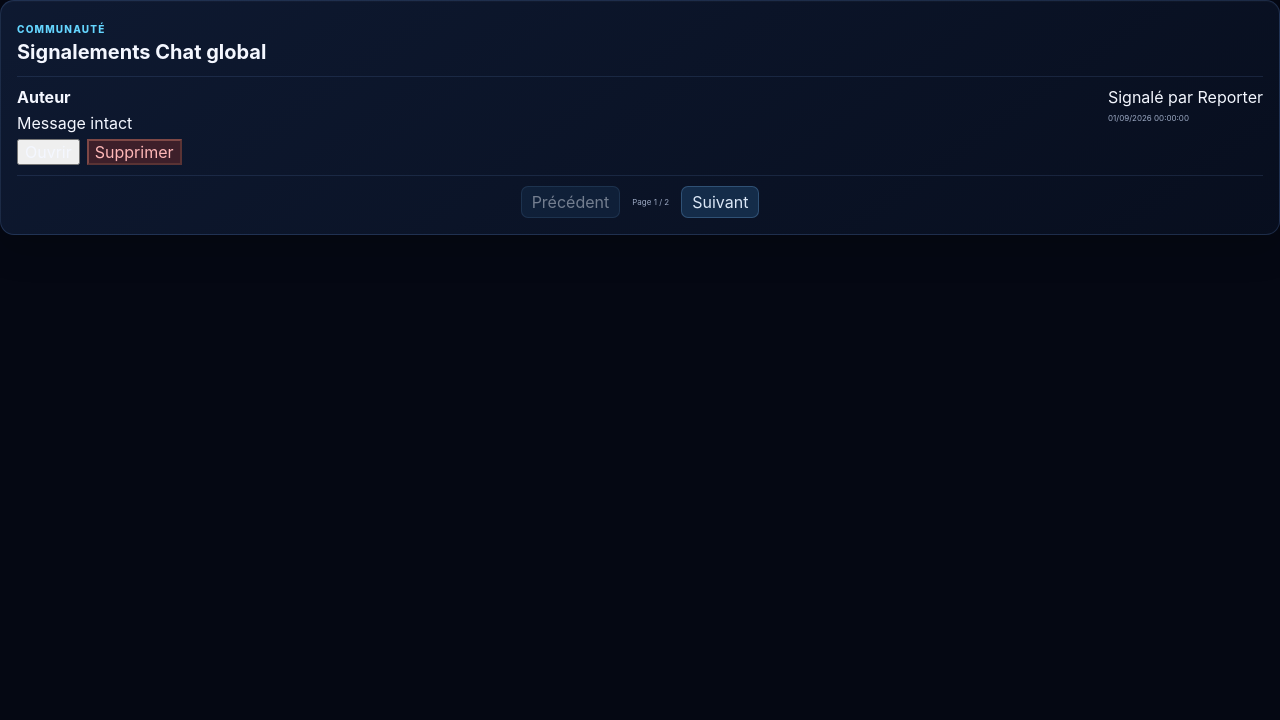
Test: Admin panel actions › deletes a Chat report from list after confirmation and adjusts the final page
Click the button "Suivant" at (720, 202), box [681, 186, 759, 218]
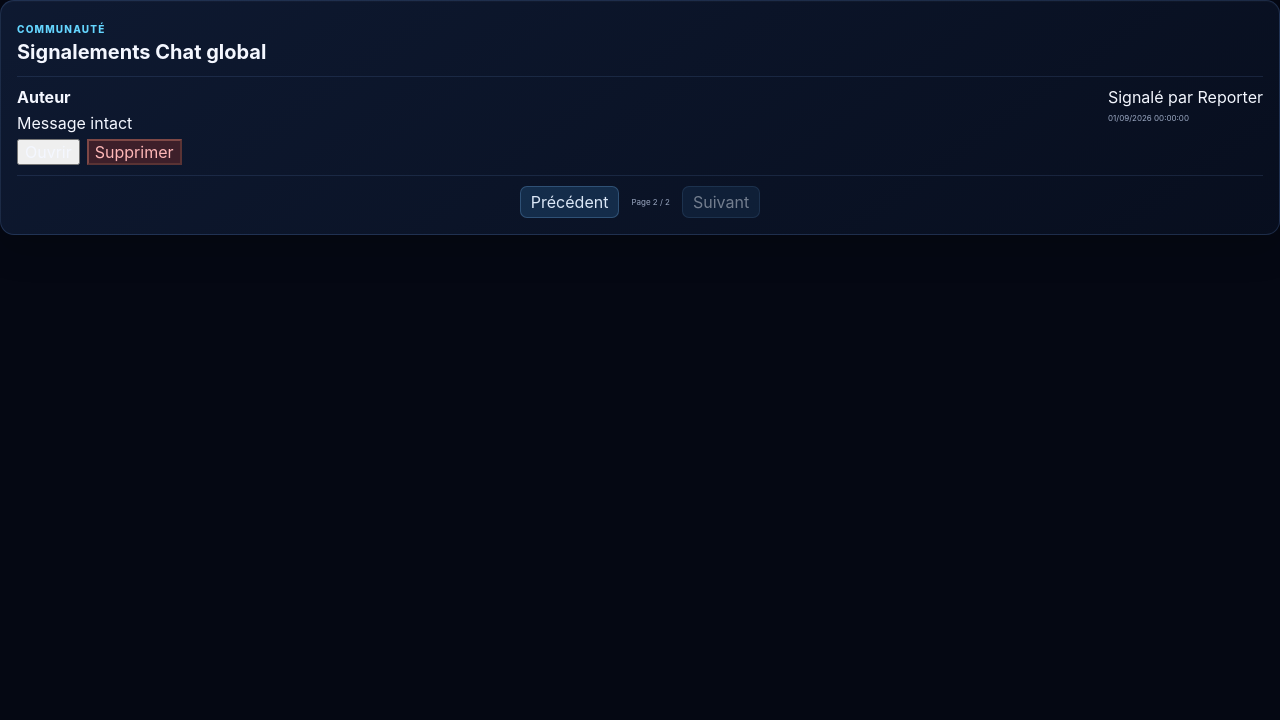
Expected: the text "Page 2 / 2" is shown, [631, 197, 670, 207]
Click the button "Supprimer" at (134, 152), box [87, 139, 182, 165]
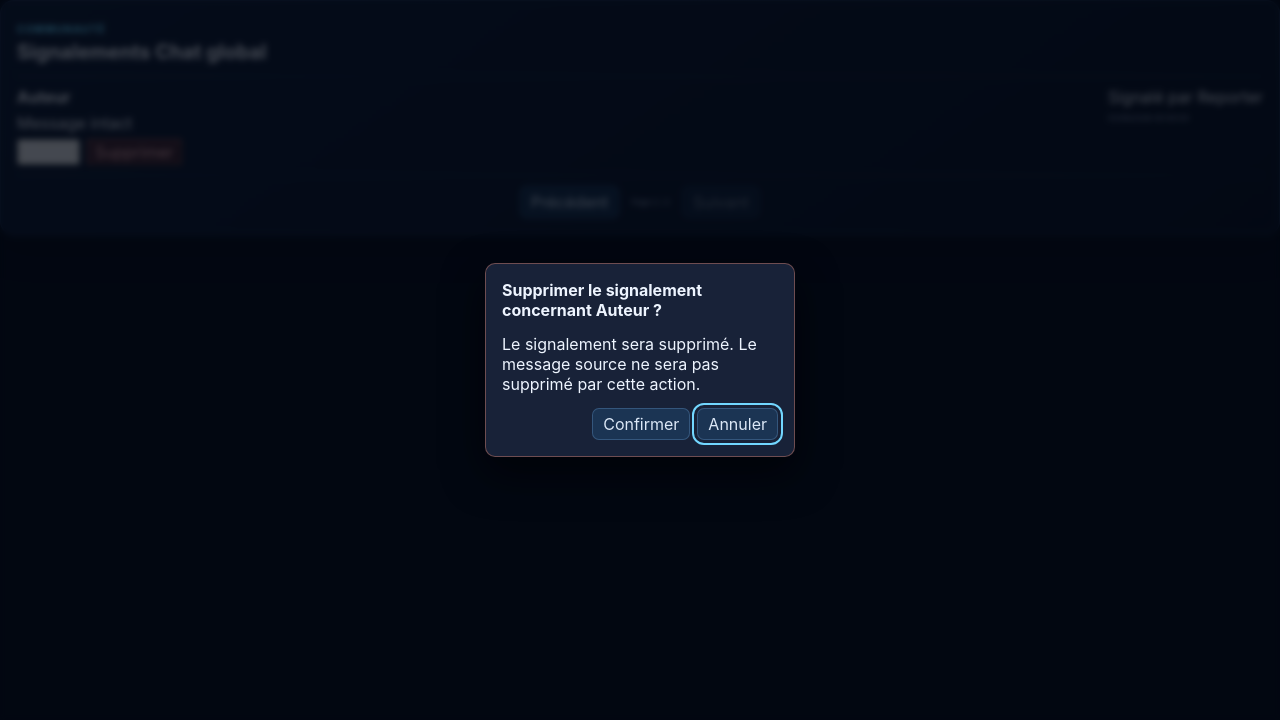
Expected: the dialog shows "Le signalement sera supprimé. Le message source ne sera pas supprimé par cette action.", [502, 334, 757, 394]
Click the button "Annuler" at (738, 424), box [697, 408, 778, 440]
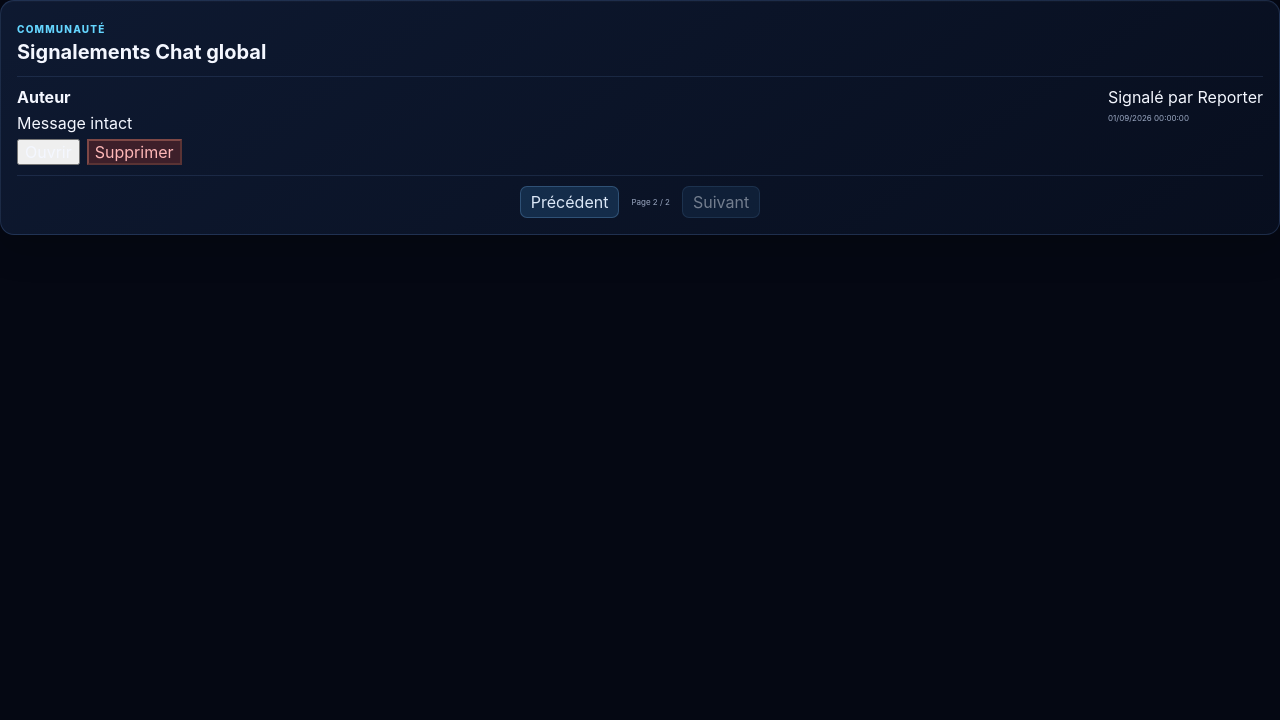
Click the button "Supprimer" at (134, 152), box [87, 139, 182, 165]
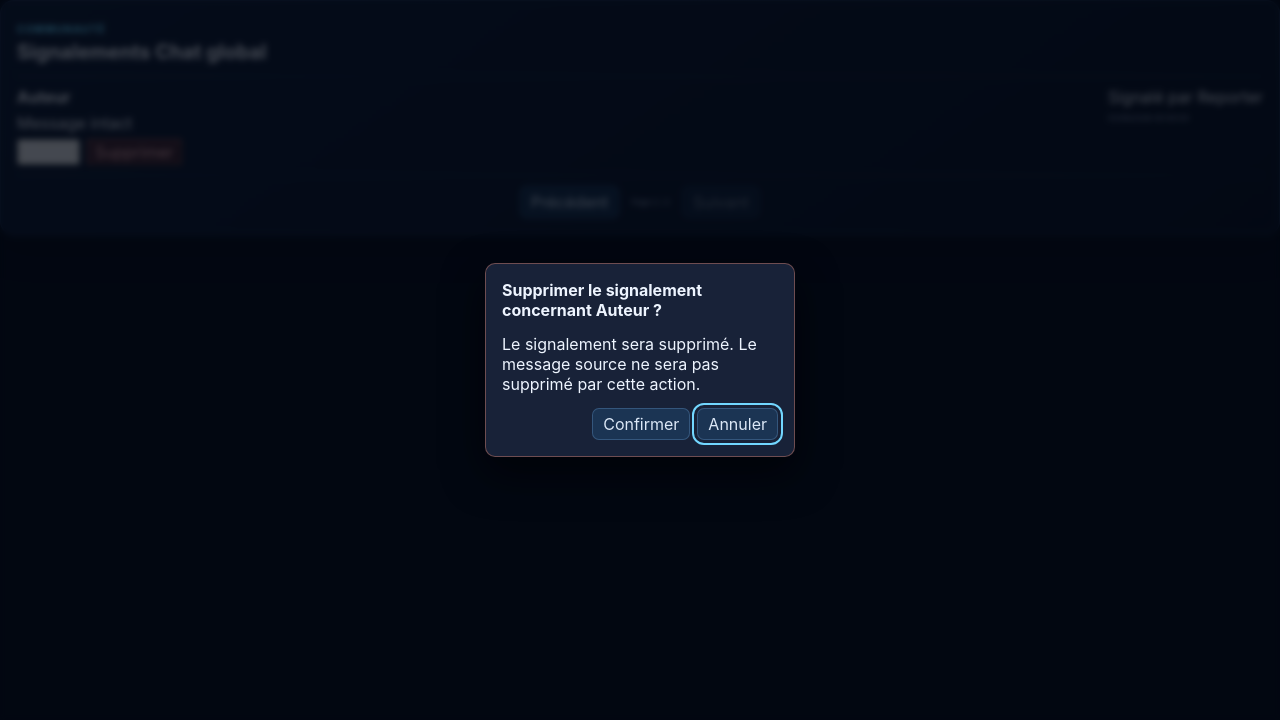
Click the button "Confirmer" at (641, 424), box [592, 408, 690, 440]
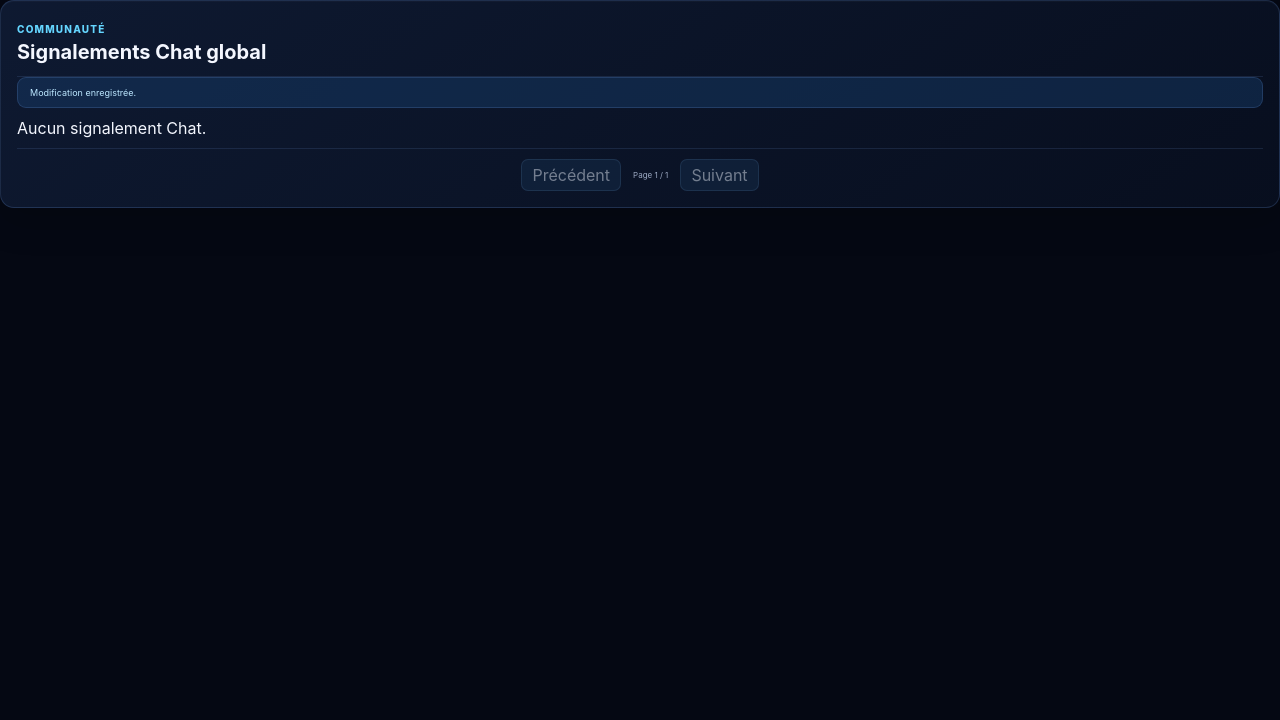
Expected: the text "Aucun signalement Chat." is shown, [17, 118, 206, 138]
Expected: the text "Page 1 / 1" is shown, [633, 170, 668, 180]
